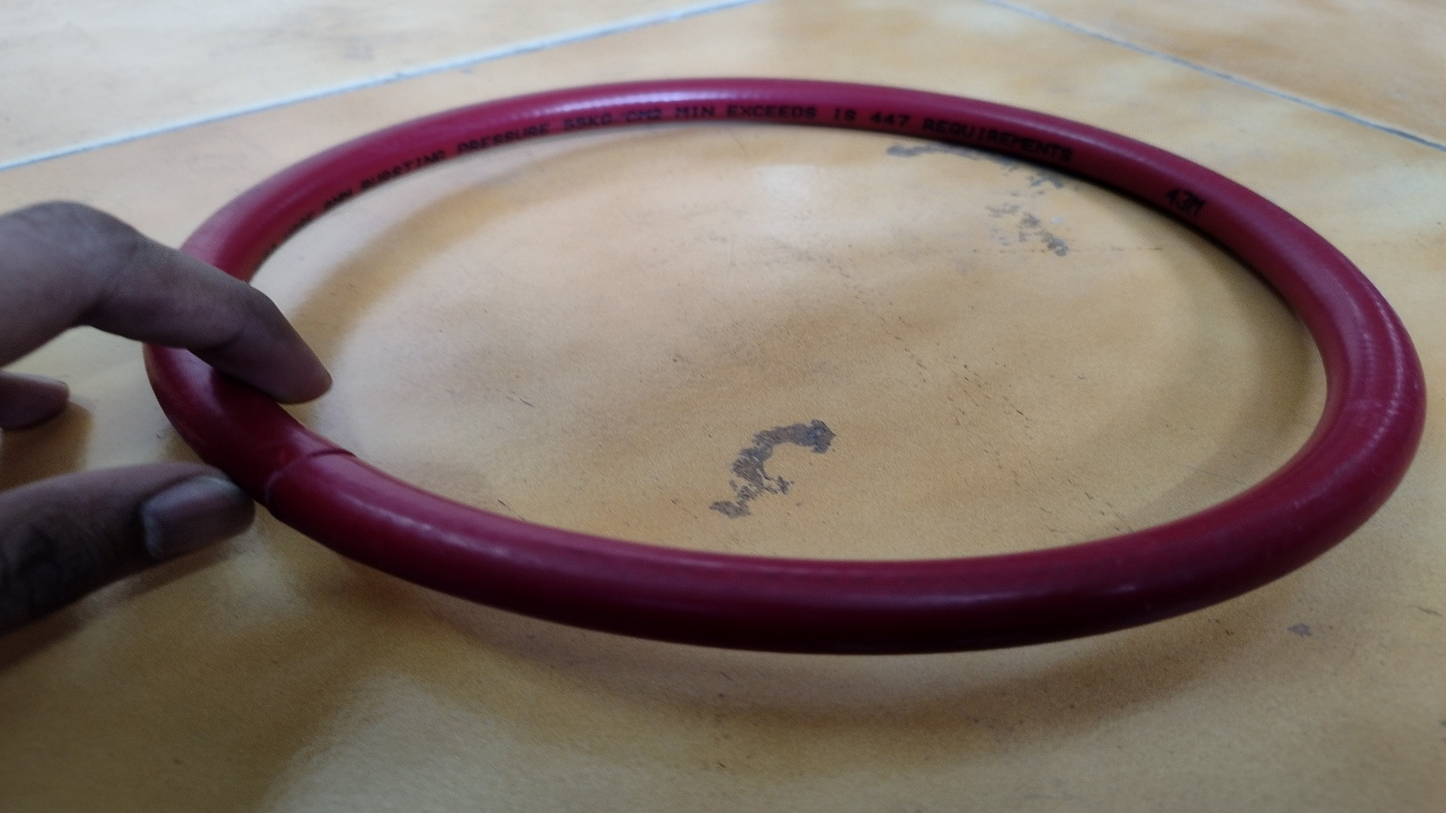Red ring: (337, 100, 1420, 650)
